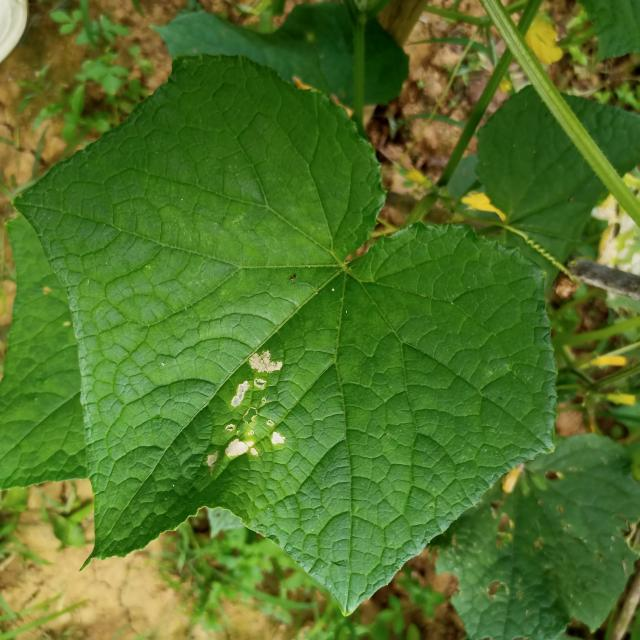disease_cucumber: (202, 334, 298, 475)
